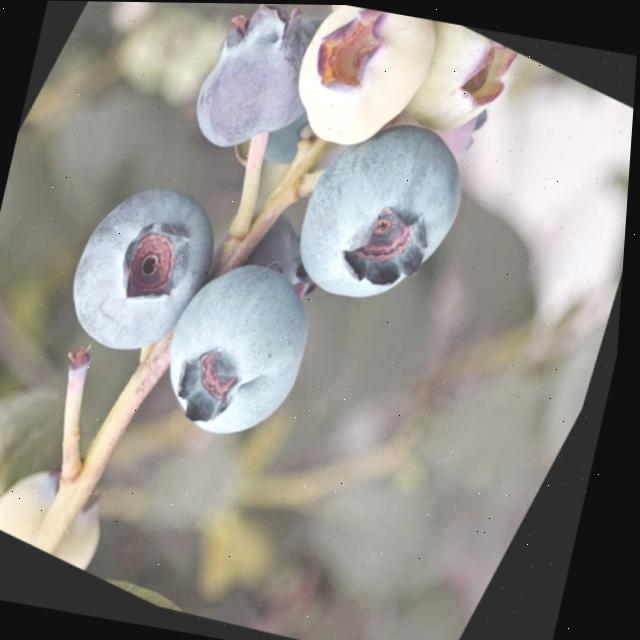RipeBlueBerry: (260, 86, 508, 348), (130, 231, 375, 483), (27, 163, 255, 398), (256, 3, 459, 177)
